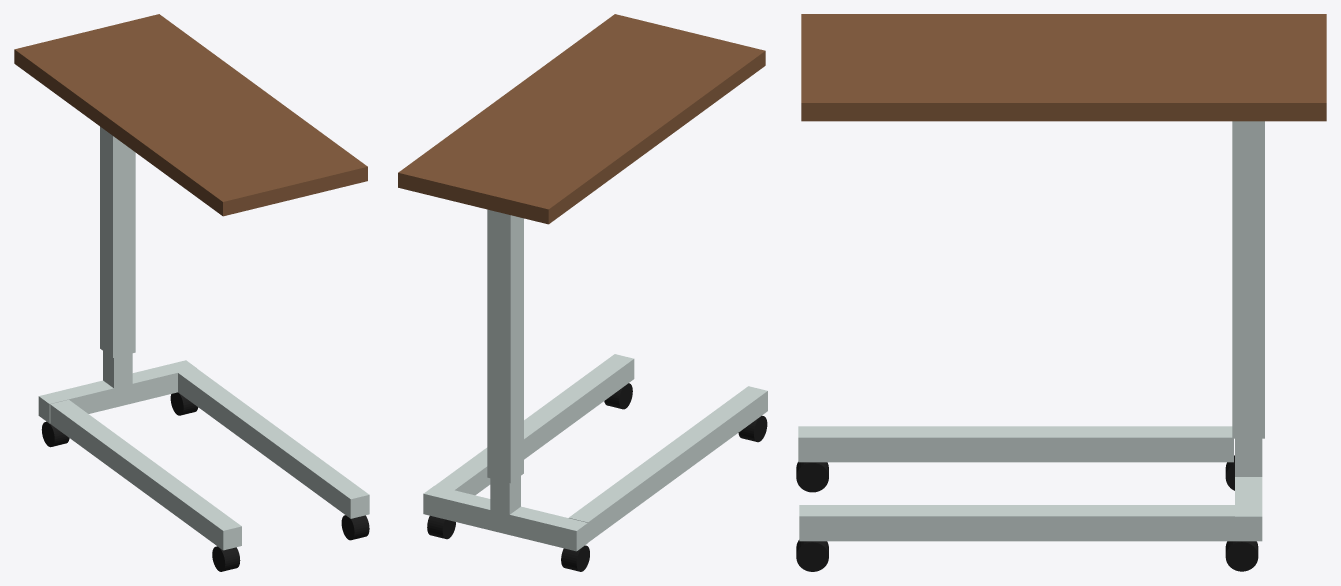
File: over_bed-table.glb
3 views of the same model, side by side, from view 1: azimuth 30°, elevation 25°; view 2: azimuth 150°, elevation 25°; view 3: azimuth 270°, elevation 25° (orthographic). The views are drawn at different scales.
Parts seen in each view (by area): view 1: table top, height bar, footerBaseBarRight, footerBaseBarLeft, footerBaseBar, innerHeightBar, LeftFrontWheel, RightFrontWheel, RightBackWheel; view 2: table top, height bar, footerBaseBarRight, footerBaseBarLeft, footerBaseBar, innerHeightBar, RightBackWheel, LeftBackWheel, RightFrontWheel; view 3: table top, footerBaseBarLeft, footerBaseBarRight, height bar, footerBaseBar, innerHeightBar, LeftFrontWheel, LeftBackWheel, RightFrontWheel.
Boxes of the visible parts, x1,y1,x2,y2 form: table top: (14, 14, 367, 216); height bar: (100, 126, 135, 357); footerBaseBarRight: (50, 399, 241, 550); footerBaseBarLeft: (178, 368, 369, 518); footerBaseBar: (38, 360, 196, 423); innerHeightBar: (103, 351, 132, 388); LeftFrontWheel: (341, 515, 369, 540); RightFrontWheel: (212, 546, 240, 571); RightBackWheel: (41, 421, 69, 447); table top: (398, 14, 765, 224); height bar: (487, 209, 523, 483); footerBaseBarRight: (569, 386, 767, 542); footerBaseBarLeft: (435, 354, 634, 495); footerBaseBar: (423, 485, 587, 551); innerHeightBar: (490, 476, 520, 514); RightBackWheel: (561, 545, 589, 571); LeftBackWheel: (427, 515, 455, 539); RightFrontWheel: (738, 415, 767, 442); table top: (801, 14, 1326, 121); footerBaseBarLeft: (799, 505, 1235, 541); footerBaseBarRight: (798, 426, 1233, 462); height bar: (1232, 121, 1264, 438); footerBaseBar: (1235, 477, 1262, 541); innerHeightBar: (1235, 438, 1262, 476); LeftFrontWheel: (796, 540, 828, 571); LeftBackWheel: (1225, 541, 1258, 571); RightFrontWheel: (796, 462, 828, 492).
Bounding box in the file's own units: 0.4009 × 0.968 × 0.9918.
